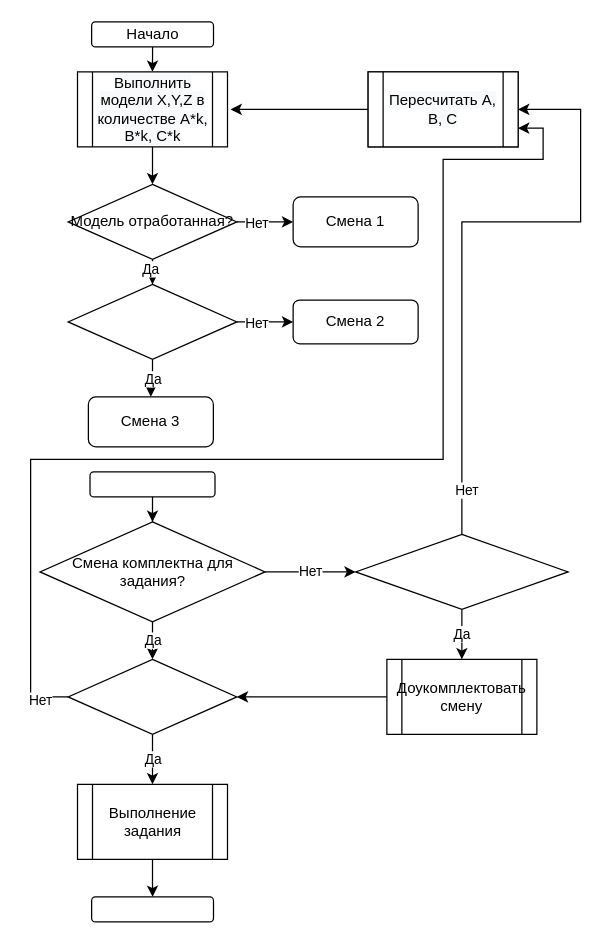
Some shapes in this 613 by 944 pixel diagram are drawn without their labels. The centre of each missing label's shape, as x and y in pixels:
"Доукомплектовываема?" belongs at pixel 461 571.
"Конец" belongs at pixel 152 909.
"Модель сложная?" belongs at pixel 152 321.
"Оборудование функционирует?" belongs at pixel 152 696.
"Смена Х" belongs at pixel 152 484.
